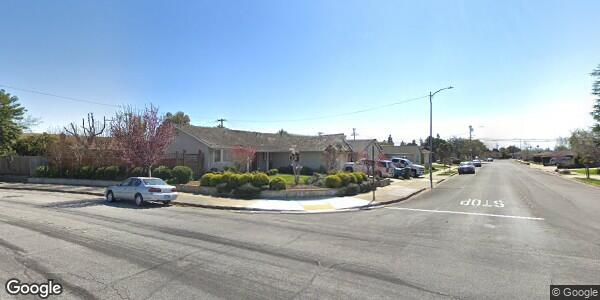Steel_Pole: (427, 82, 454, 187)
